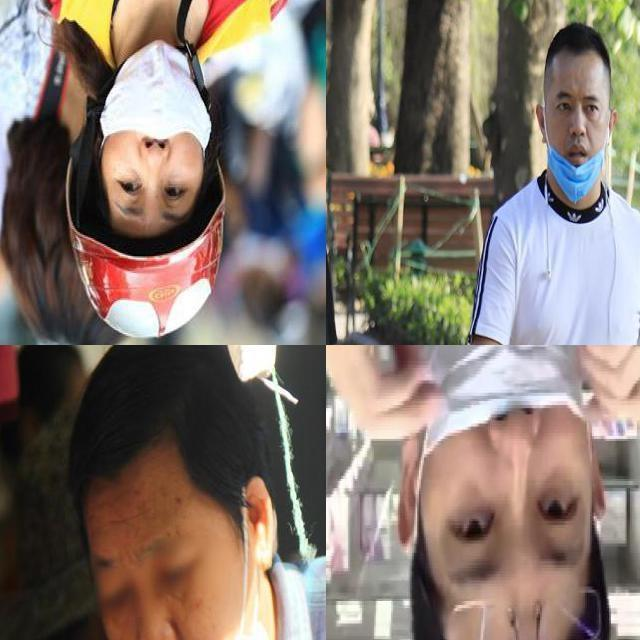hairnet: (439, 345, 587, 612), (110, 49, 201, 227), (551, 88, 603, 192)
no_gloves: (62, 343, 268, 544), (410, 569, 618, 640), (542, 18, 617, 95)
